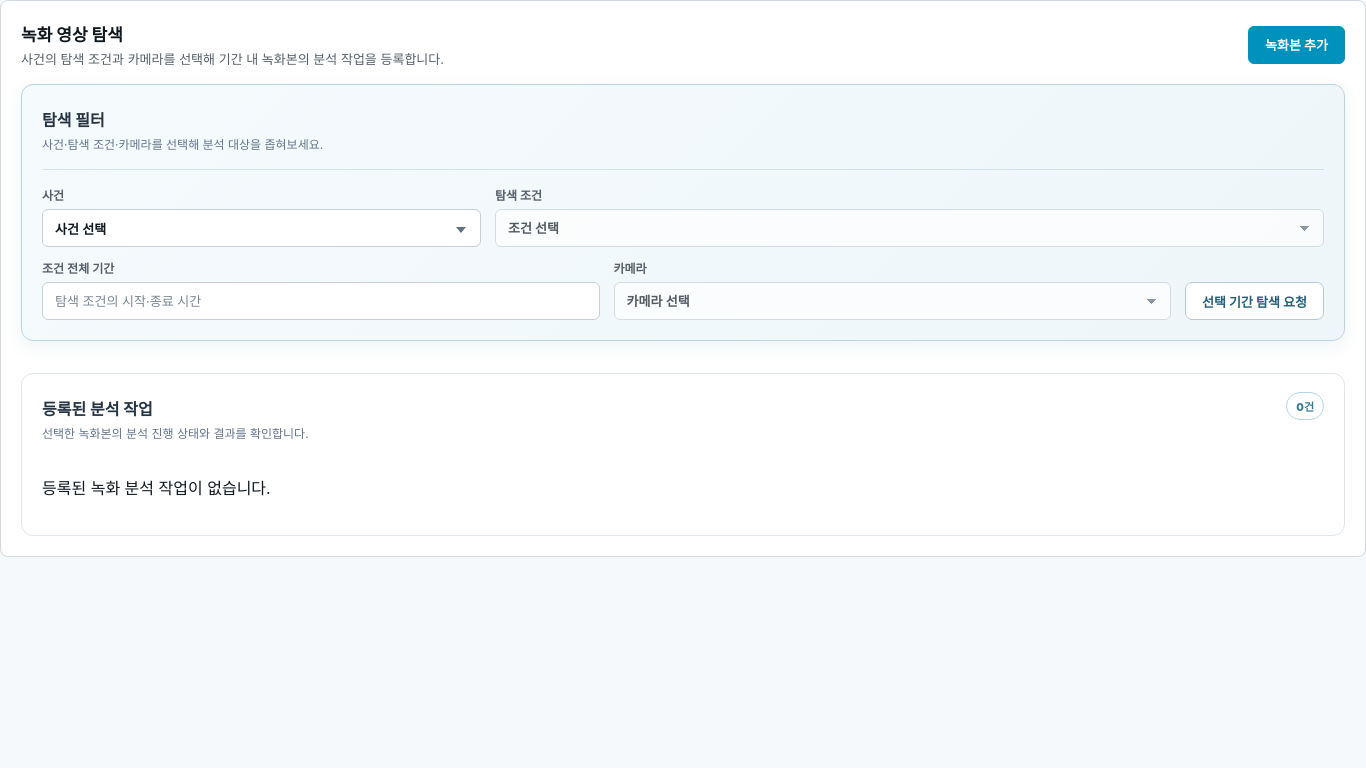
RecordingSearchView › preserves the selected range across camera changes and resets it for a new condition
Click the button with class "case-picker-trigger": (81, 229) x1=42 y1=209 x2=481 y2=247
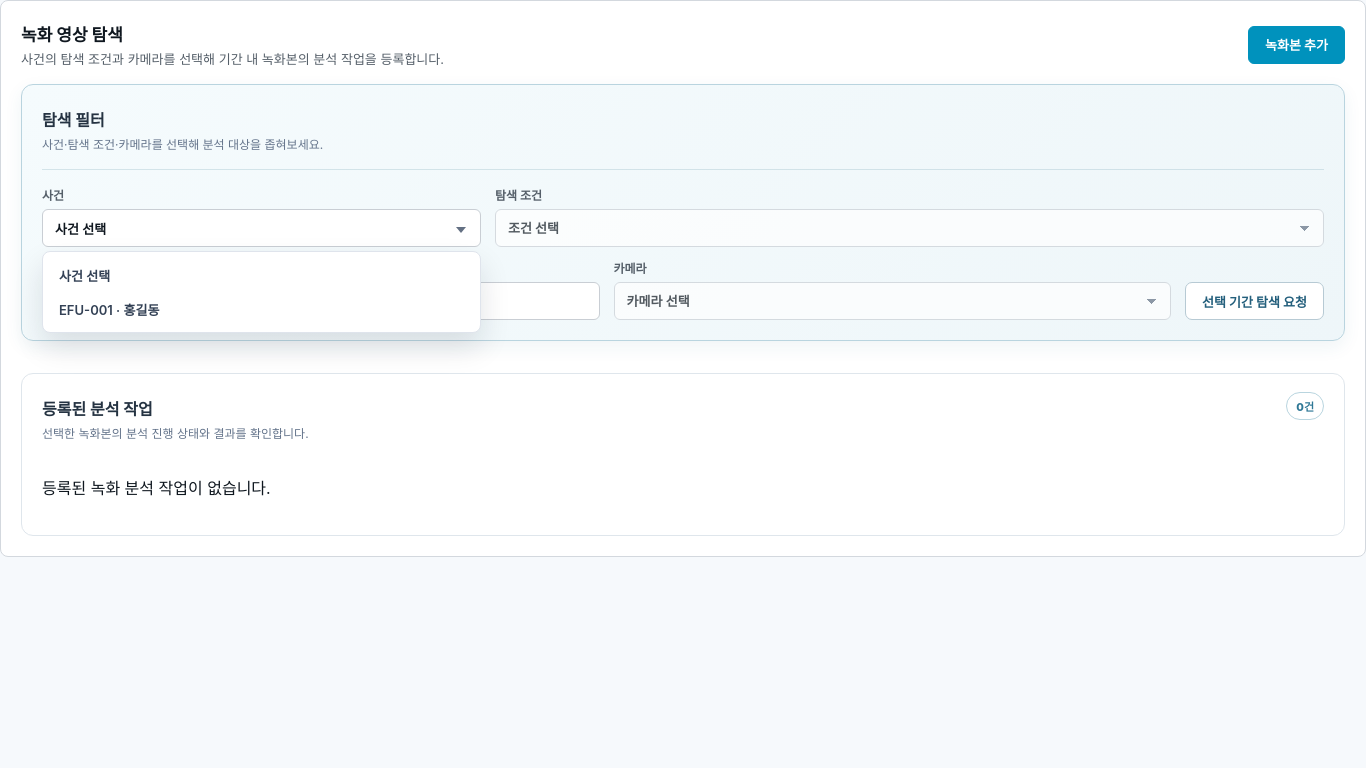
Click the button with class "case-picker-option" showing "EFU-001 · 홍길동": (109, 310) x1=49 y1=292 x2=474 y2=326
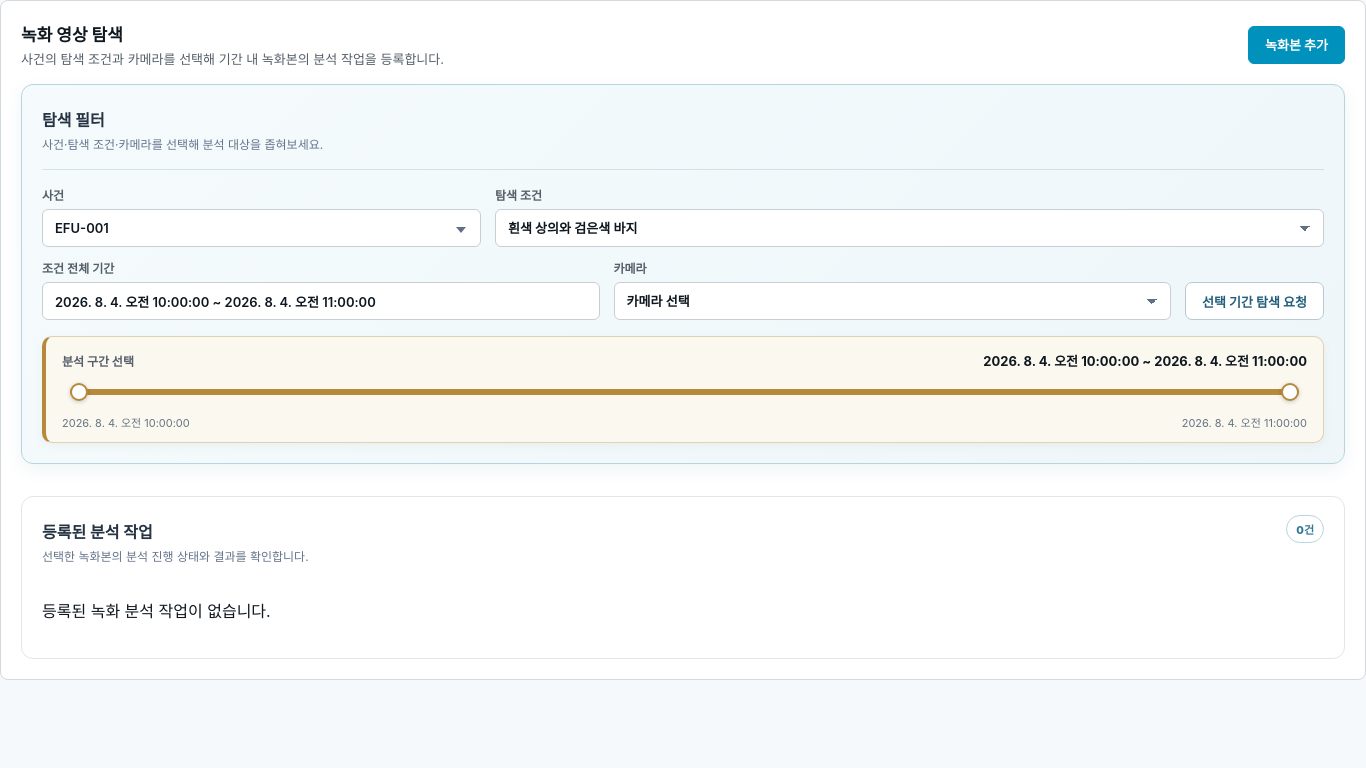
Select "camera-04 · 정문 카메라" in the dropdown labelled "카메라": (892, 301) x1=614 y1=282 x2=1171 y2=320
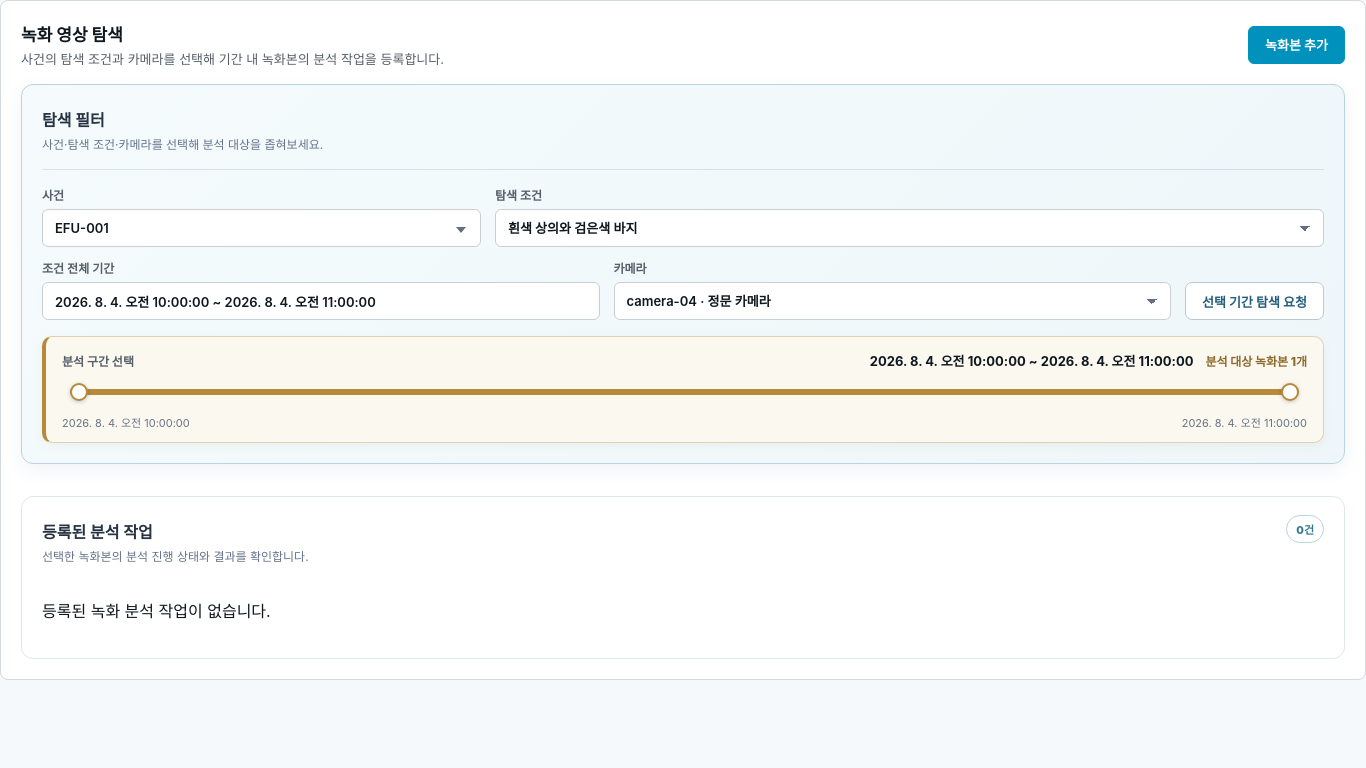
Set the slider with class "analysis-range-start" to "10": (280, 392) x1=70 y1=378 x2=1299 y2=406
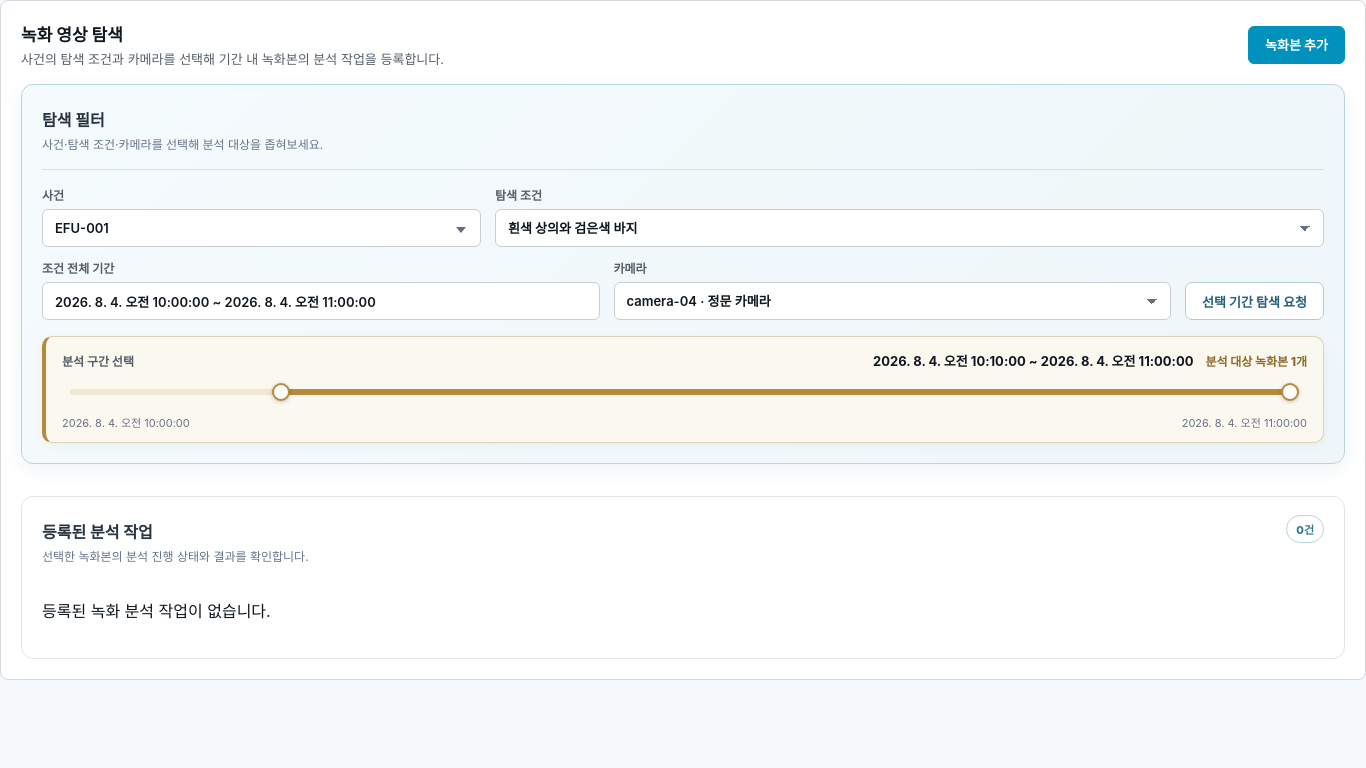
Select "camera-05 · 후문 카메라" in the dropdown labelled "카메라": (892, 301) x1=614 y1=282 x2=1171 y2=320
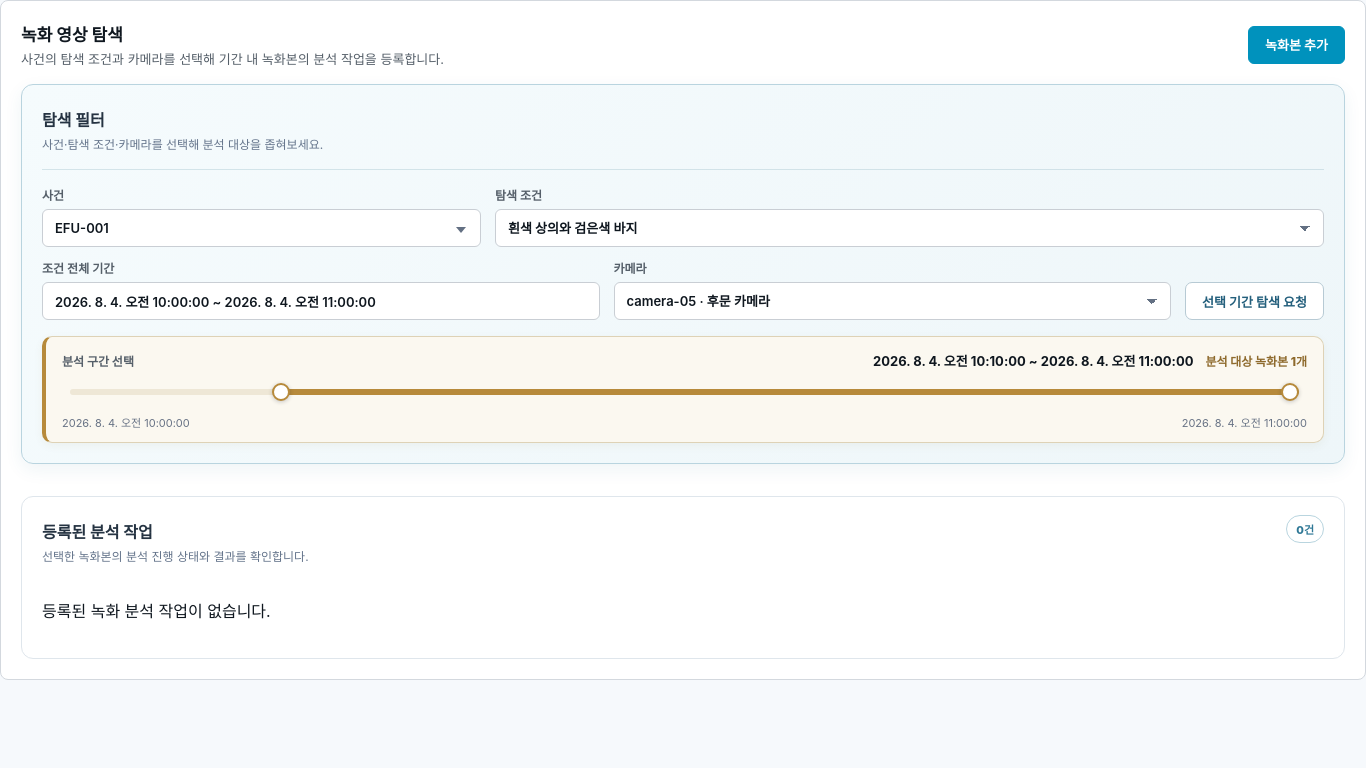
Select "흰색 상의와 검은색 바지" in the dropdown labelled "탐색 조건": (909, 228) x1=495 y1=209 x2=1324 y2=247
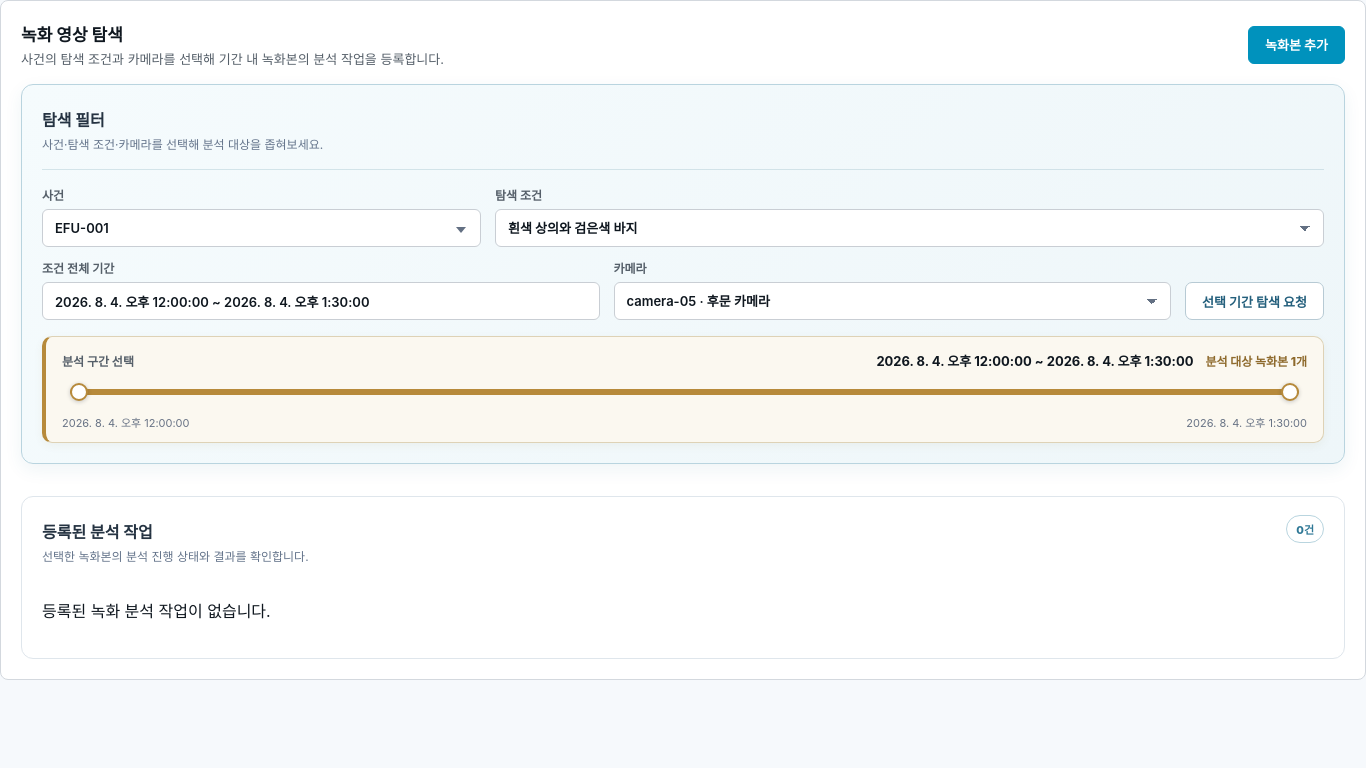
Expected: the slider with class "analysis-range-start" holds "0", x1=70 y1=378 x2=1299 y2=406
Expected: the slider with class "analysis-range-end" holds "90", x1=70 y1=378 x2=1299 y2=406
